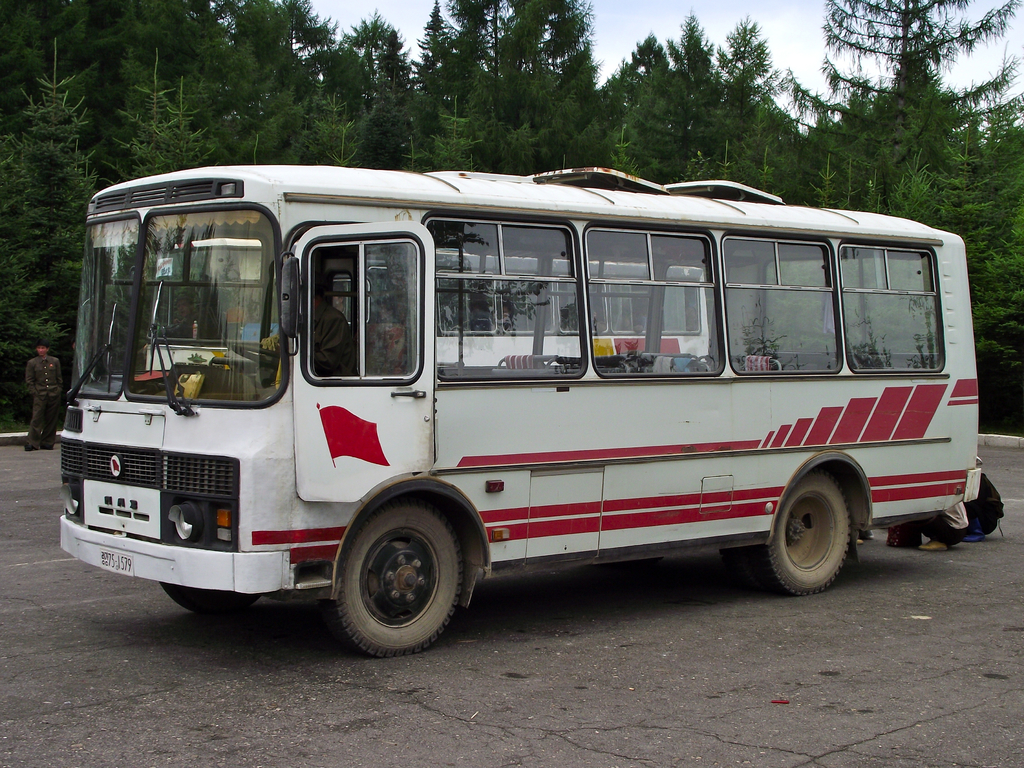Bus: (58, 167, 983, 657)
